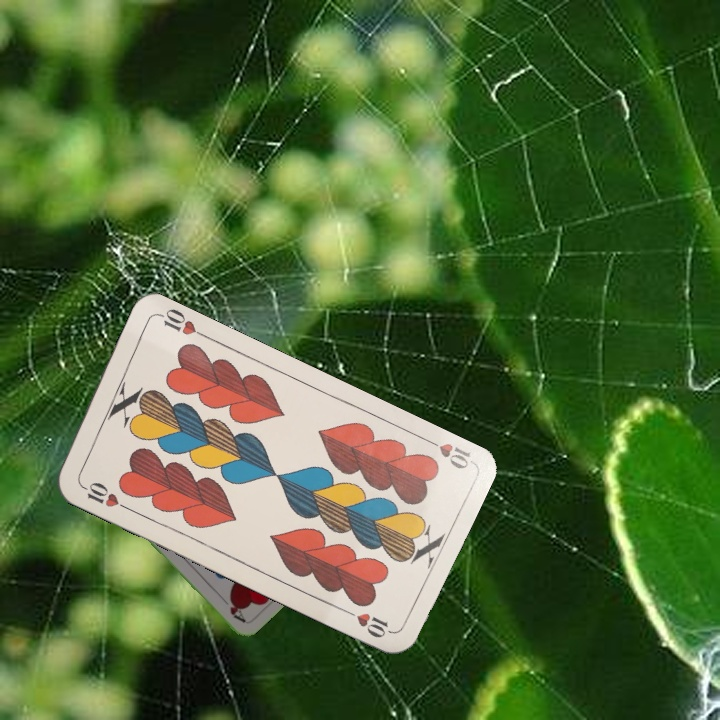H10: (419, 433, 475, 472), (76, 478, 131, 512)
